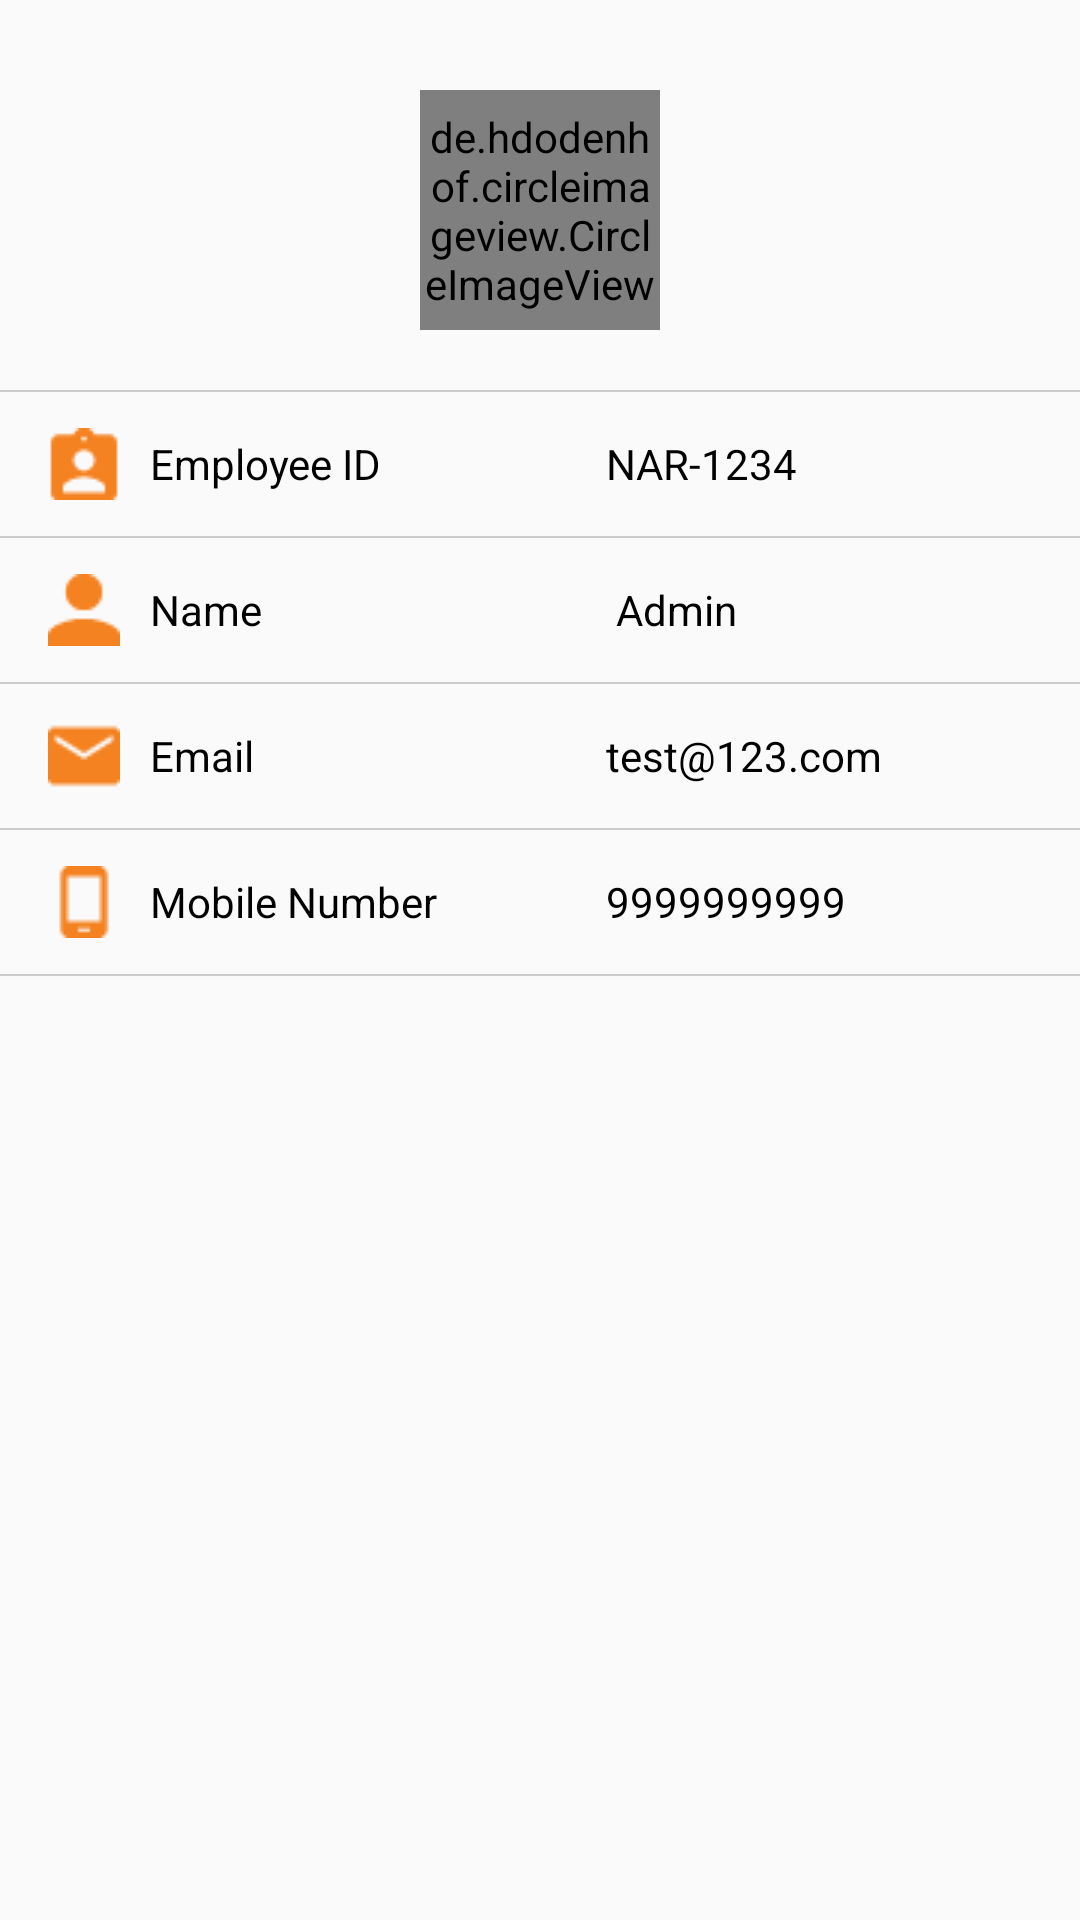

Icon click points for this 1080px×1920px phone screenshot, format [x,y]:
emp id: [84,464]
employee mobile: [84,902]
